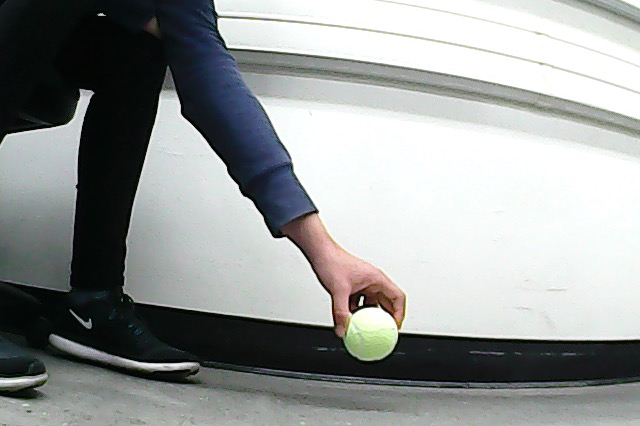ball: (344, 308, 399, 361)
